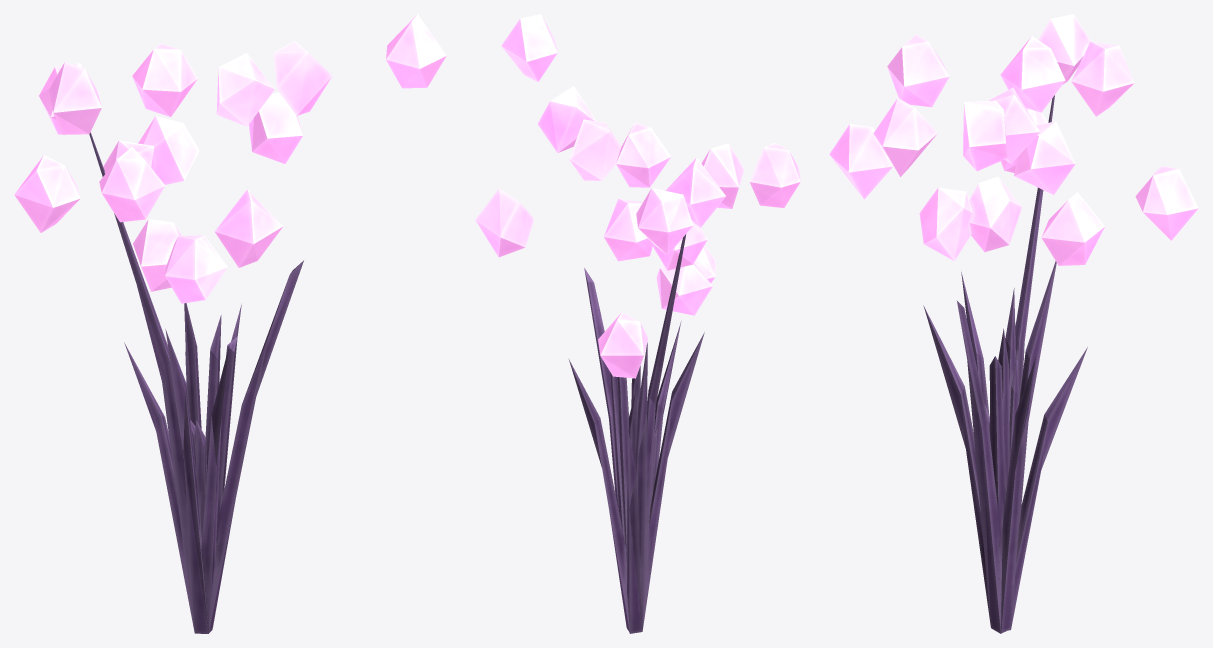
Rendered from underworld-flora-fungal-sporebrush.glb.
3 views of the same model, side by side, from view 1: azimuth 30°, elevation 25°; view 2: azimuth 150°, elevation 25°; view 3: azimuth 270°, elevation 25° (orthographic). The views are drawn at different scales.
Visible parts, largest first — view 1: bulbs, stalks; view 2: bulbs, stalks; view 3: bulbs, stalks.
Part boxes in pixels (left/top/right/bottom): bulbs: left=14, top=14, right=446, bottom=303; stalks: left=89, top=132, right=303, bottom=633; bulbs: left=475, top=14, right=800, bottom=378; stalks: left=568, top=234, right=704, bottom=633; bulbs: left=829, top=14, right=1198, bottom=265; stalks: left=923, top=95, right=1087, bottom=633.
Size of the model in its own units: 0.6107 by 1.07 by 0.5884.
2 materials, 2 textured.
